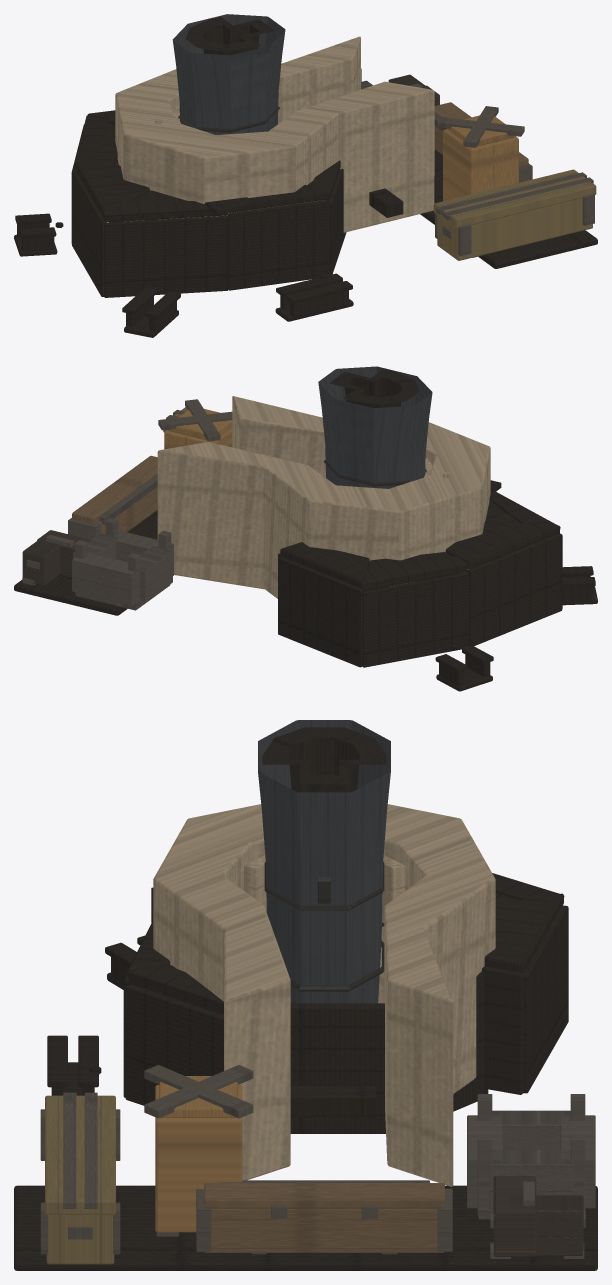
File: cargo_port_lod0.glb
3 views of the same model, one above another, from view 1: azimuth 30°, elevation 25°; view 2: azimuth 150°, elevation 25°; view 3: azimuth 270°, elevation 25° (orthographic). The views are drawn at different scales.
Visible parts, largest first — view 1: LOD0_cargo_port, LOD0_cradle, LOD0_pod, LOD0_crate_0, LOD0_crate_1, LOD0_crate_2; view 2: LOD0_cradle, LOD0_cargo_port, LOD0_pod, LOD0_crate_3, LOD0_crate_2, LOD0_crate_1, LOD0_crate_4; view 3: LOD0_cradle, LOD0_cargo_port, LOD0_pod, LOD0_crate_2, LOD0_crate_0, LOD0_crate_1, LOD0_crate_3, LOD0_crate_4.
Part boxes in pixels (box(x1,y1,x2,y2)): LOD0_cargo_port: box(14, 110, 597, 337); LOD0_cradle: box(115, 36, 434, 232); LOD0_pod: box(172, 14, 285, 134); LOD0_crate_0: box(433, 169, 596, 260); LOD0_crate_1: box(437, 106, 524, 200); LOD0_crate_2: box(434, 102, 532, 182); LOD0_cradle: box(157, 396, 490, 598); LOD0_cargo_port: box(14, 480, 597, 691); LOD0_pod: box(318, 366, 432, 488); LOD0_crate_3: box(72, 518, 173, 610); LOD0_crate_2: box(68, 455, 157, 539); LOD0_crate_1: box(158, 399, 232, 449); LOD0_crate_4: box(22, 530, 90, 585); LOD0_cradle: box(153, 804, 495, 1186); LOD0_cargo_port: box(14, 873, 597, 1270); LOD0_pod: box(258, 720, 390, 1003); LOD0_crate_2: box(196, 1180, 452, 1254); LOD0_crate_0: box(40, 1092, 120, 1264); LOD0_crate_1: box(144, 1065, 253, 1236); LOD0_crate_3: box(467, 1094, 595, 1219); LOD0_crate_4: box(490, 1176, 585, 1258).
Bounding box in the file's own units: 2.14 × 1 × 1.58.
Materials: 1 (1 with a texture image).
